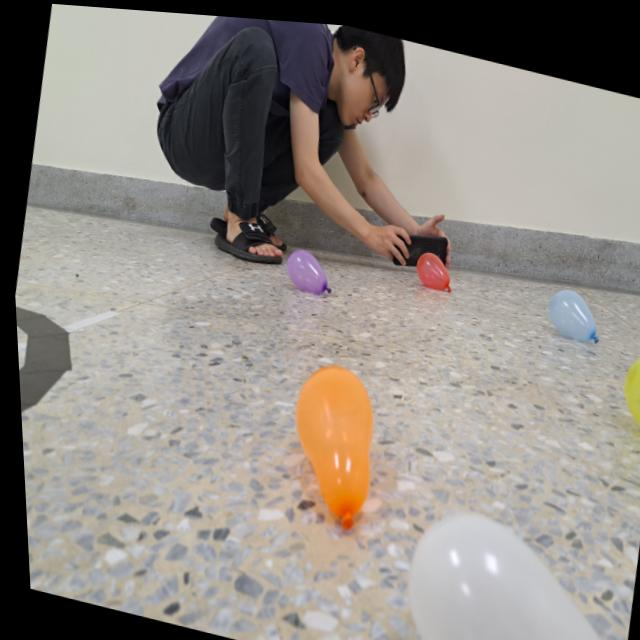other: (379, 490, 638, 640), (270, 351, 385, 532), (537, 274, 604, 339), (608, 333, 640, 440), (279, 239, 336, 295)
red: (409, 240, 456, 288)
